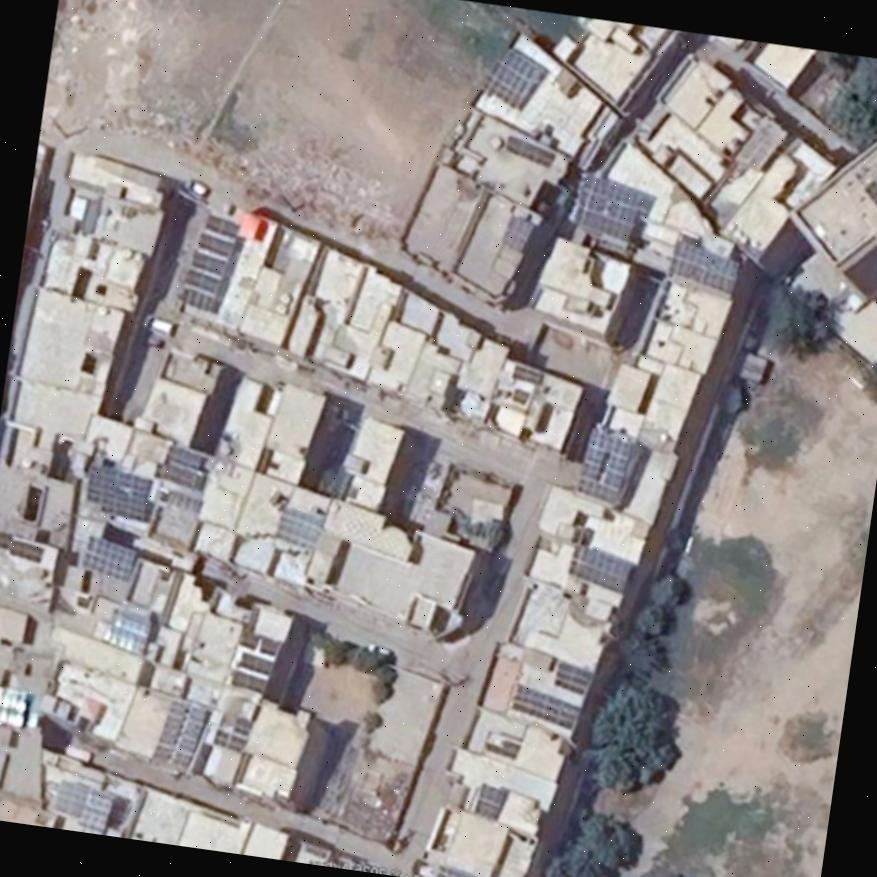Solarpanel: (573, 170, 640, 241), (576, 427, 631, 501), (669, 239, 738, 293), (484, 48, 544, 109), (82, 467, 148, 521), (510, 685, 578, 728), (576, 543, 633, 592), (83, 536, 134, 579), (106, 607, 151, 654), (554, 658, 593, 694), (0, 533, 40, 561), (0, 687, 27, 728), (205, 214, 239, 240), (476, 784, 502, 818), (191, 249, 229, 272), (238, 651, 274, 675), (183, 267, 219, 291), (197, 233, 236, 254), (241, 629, 278, 651), (230, 670, 267, 692)
